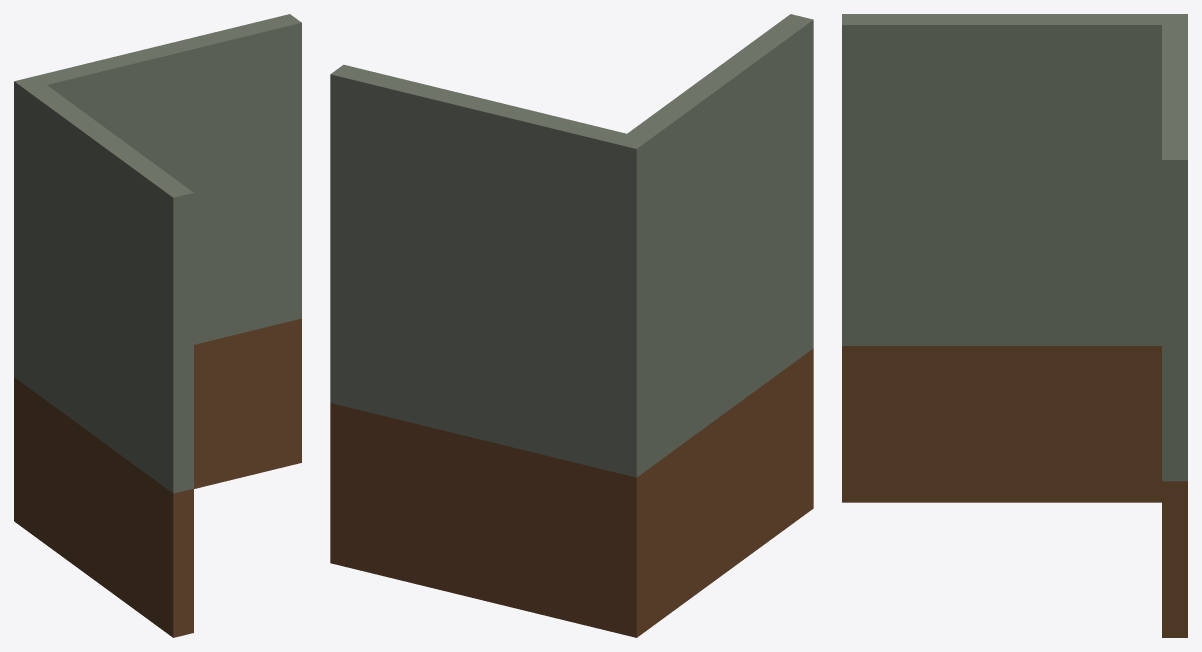
The model's file is Building_21.fbx.
The picture shows the model from 3 angles, left to right: view 1: azimuth 30°, elevation 25°; view 2: azimuth 150°, elevation 25°; view 3: azimuth 270°, elevation 25°; orthographic projection. The views are drawn at different scales.
Parts seen in each view (by area): view 1: Building_21; view 2: Building_21; view 3: Building_21.
Part boxes in pixels (x1,y1,x2,y2): Building_21: [14, 14, 301, 637]; Building_21: [330, 14, 813, 637]; Building_21: [842, 14, 1187, 637].
Size of the model in its own units: 162 by 247 by 162.
1 material, 1 textured.
